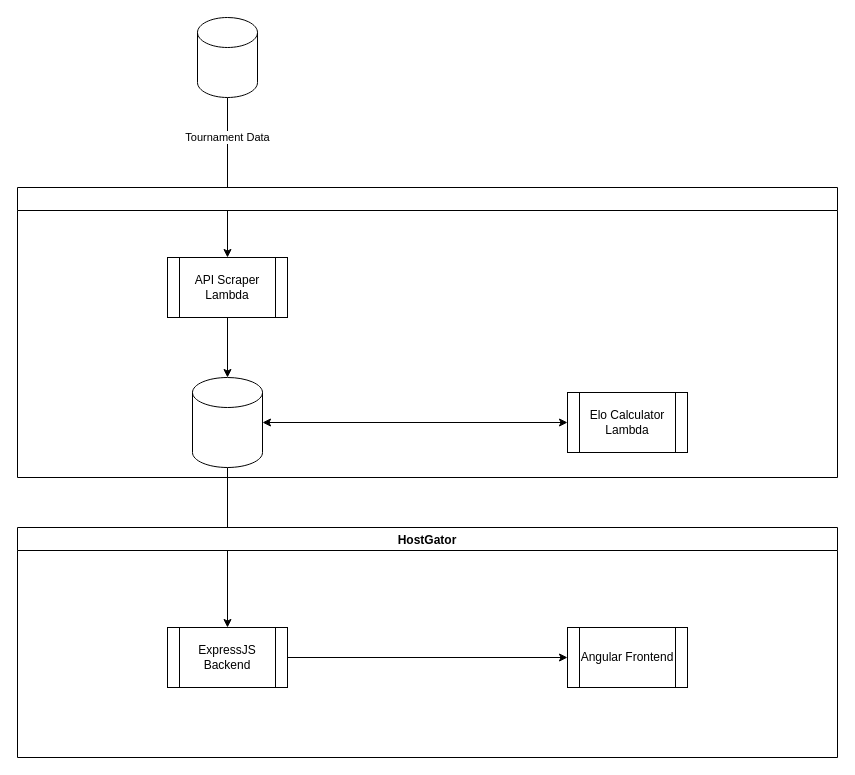
The diagram is 855 pixels wide and 775 high, and some of its shapes have lost their labels. Here are the shapes that lost their labels. From the top down, the box of each, then its label:
(196, 16, 258, 98): Start.gg API
(16, 186, 838, 478): AWS
(192, 376, 262, 468): MongoDB Instance
